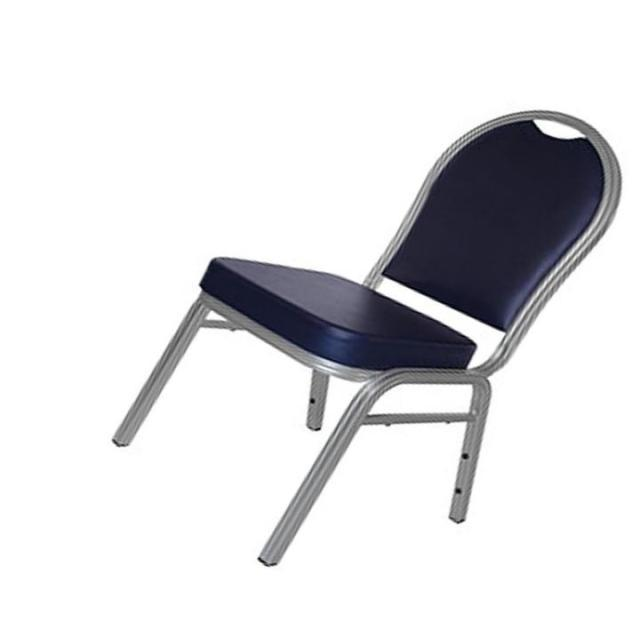chair: (109, 110, 624, 569)
